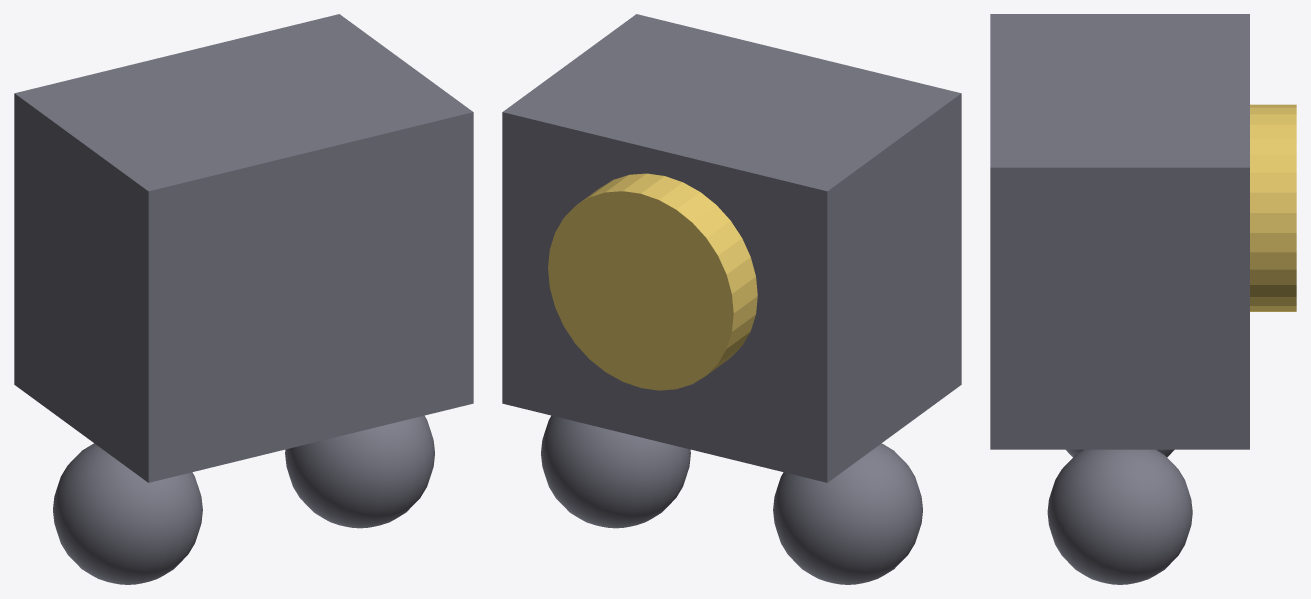
Rendered from clay_camera_creature.glb.
The picture shows the model from 3 angles, left to right: view 1: azimuth 30°, elevation 25°; view 2: azimuth 150°, elevation 25°; view 3: azimuth 270°, elevation 25°; orthographic projection. The views are drawn at different scales.
Visible parts, largest first — view 1: leg.001; view 2: leg.001; view 3: leg.001.
Boxes of the visible parts, x1,y1,x2,y2 form: leg.001: [14, 14, 473, 584]; leg.001: [502, 14, 961, 584]; leg.001: [990, 14, 1296, 584].
Size of the model in its own units: 0.7801 by 0.92 by 0.59.
